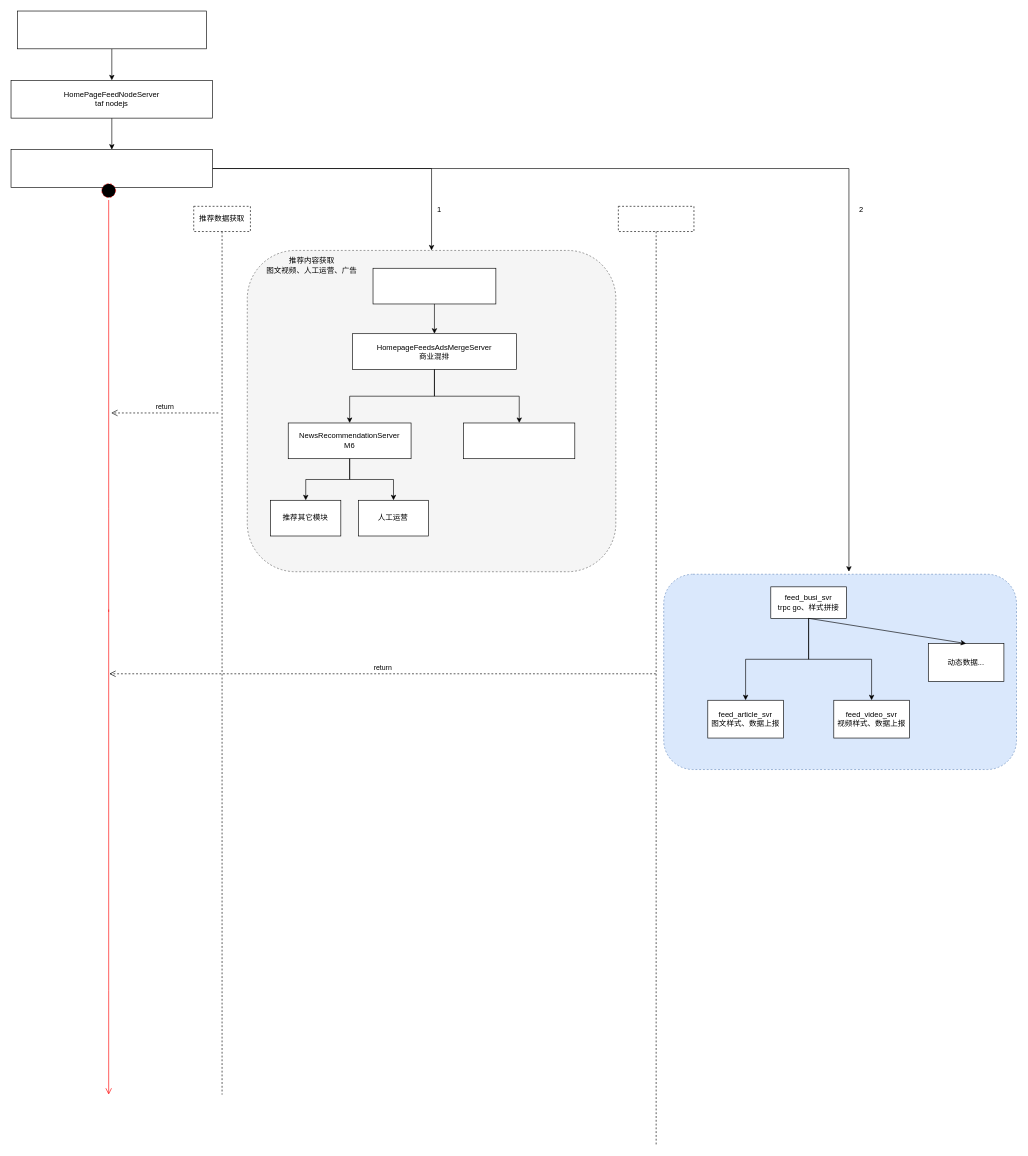
This 1028x1156 diagram has some shape labels left out. The centre of each missing label's shape, as x and y in pixels:
"QBNewsMergeServer taf C++ 用户历史、对接推荐" belongs at (434,286).
"TagRecommendationUnifyProxyServer taf C++ 功能逻辑" belongs at (111,168).
"前端" belongs at (111,29).
"功能逻辑、数据上报" belongs at (656,675).
"广告 商业化 测试环境区别:unify直接调广告" belongs at (519,440).
